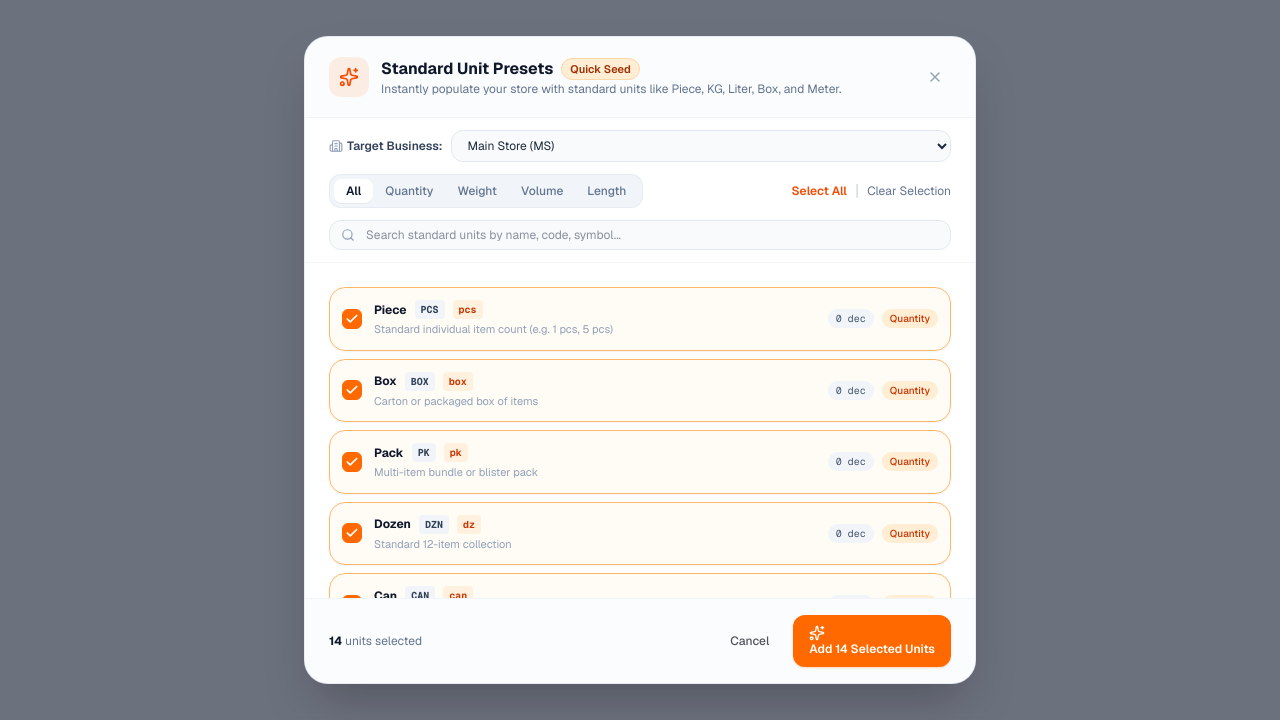
Test: Unit Presets and Quick Seed UI › AddPresetsModal Component › filters presets by category tabs
Click the button "Weight" at (477, 191), box [445,179,509,203]
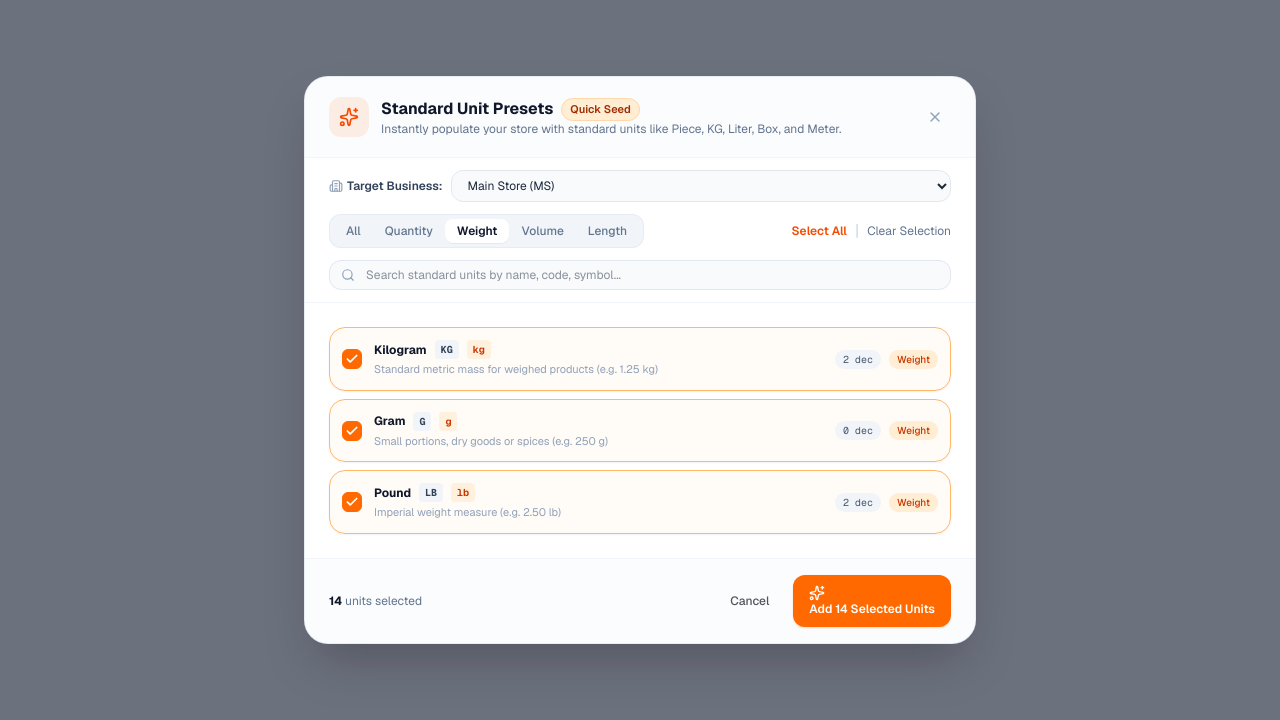
Expected: the text "Kilogram" is shown, [374,342,427,358]
Expected: the text "Gram" is shown, [374,413,406,429]
